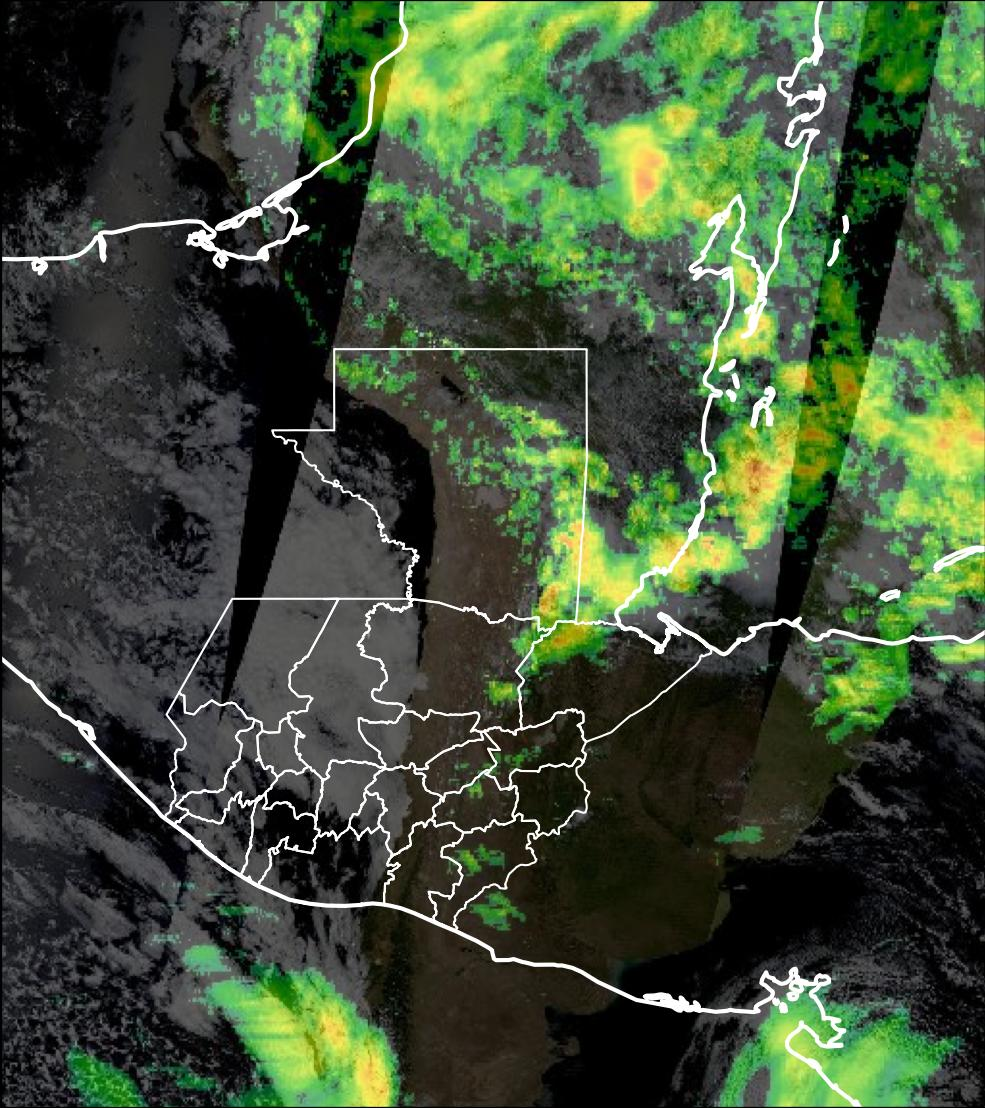precipitacion: (606, 133, 686, 234), (923, 401, 985, 490)
